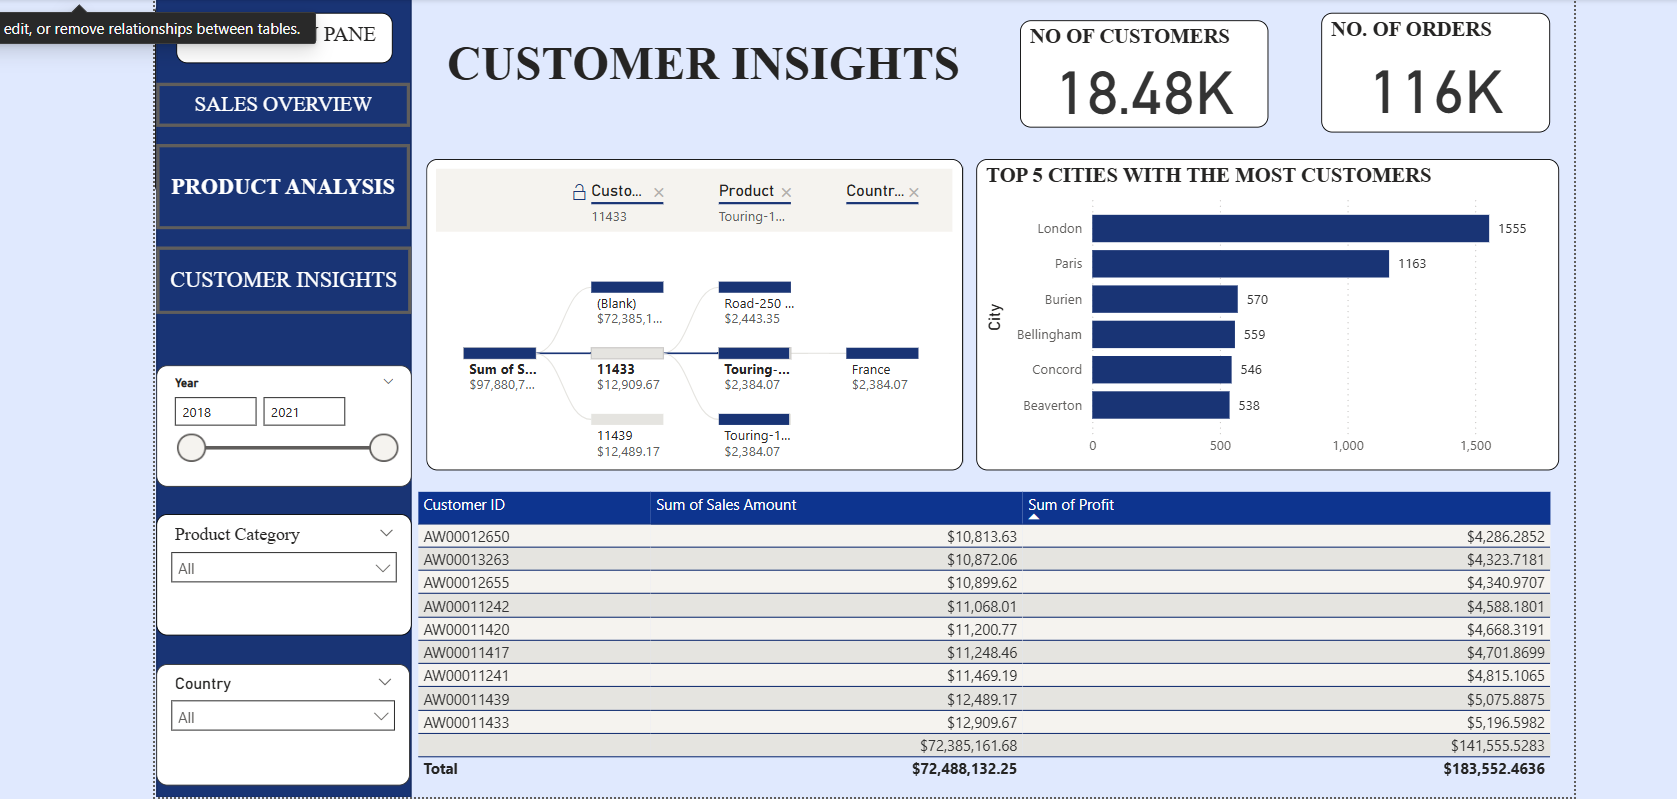

The page's visual inventory and layout, read from the dashboard file:
{"tool":"powerbi","page":{"name":"Customer Insights","canvas":[1280,720],"ordinal":3},"visuals":[{"type":"multiRowCard","fields":{"Values":["Sales.Total SalesAmount","Sales.Sales Target","Sales.Sales Variance"]},"box":[0,2.7,229.2,175.6],"z":0},{"type":"slicer","fields":{"Values":["Date.Date.Variation.Date Hierarchy.Year"]},"box":[1.2,330.7,230.5,109.8],"z":0,"group":"g2"},{"type":"group","id":"g1","title":"Group 2","box":[1.2,0,230.1,720.3],"z":1000},{"type":"slicer","title":"Catrg","fields":{"Values":["Product.Category"]},"box":[1.2,465.2,230.5,109.8],"z":1000,"group":"g2"},{"type":"decompositionTreeVisual","fields":{"Analyze":["Sum(Sales.Sales Amount)"],"ExplainBy":["Customer.CustomerKey","Product.Product","Geography.Country-Region"]},"box":[245.1,144.3,483.9,281.1],"z":2000},{"type":"slicer","fields":{"Values":["Geography.Country-Region"]},"box":[1.2,599.7,229.2,109.8],"z":2000,"group":"g2"},{"type":"shape","box":[1.2,0,230.1,720.3],"z":3000,"group":"g1"},{"type":"card","title":"NO OF CUSTOMERS","fields":{"Values":["Count(Customer.Customer ID)"]},"box":[780,18.7,223.9,97],"z":3000},{"type":"actionButton","box":[1.2,130.6,228.9,77.1],"z":3000,"group":"g2"},{"type":"actionButton","box":[1.2,223.9,230.1,61],"z":4000,"group":"g2"},{"type":"tableEx","fields":{"Values":["Customer.Customer ID","Sum(Sales.Sales Amount)","Sum(Sales.Profit)"]},"box":[231.5,439.1,1048.5,280.9],"z":4000},{"type":"actionButton","box":[1.2,75.9,228.9,39.8],"z":5000,"group":"g2"},{"type":"barChart","title":"TOP 5 CITIES WITH THE MOST CUSTOMERS","fields":{"Y":["CountNonNull(Sales.CustomerKey)"],"Category":["Geography.City"]},"box":[740.4,144.7,526,280.9],"z":5000},{"type":"card","title":"NO. OF ORDERS","fields":{"Values":["Count(Sales.SalesOrderLineKey)"]},"box":[1051.1,12.4,206.5,108.2],"z":6000},{"type":"group","id":"g2","title":"Group 1","box":[1.2,75.9,230.5,633.6],"z":6008,"group":"g1"},{"type":"textbox","box":[245.1,28.6,500.1,75.9],"z":7000},{"type":"textbox","box":[19.2,12.3,194.9,45.3],"z":8000}]}

Visuals, with their boxes on the page's 1280x720 design canvas (x1, y1, x2, y2). These are canvas units, not pixel positions in the 1677x799 screenshot, which may show the page scaled, cropped or inside an application window:
multiRowCard - Sales.Total SalesAmount x Sales.Sales Target: 0, 3, 229, 178
slicer - Date.Date.Variation.Date Hierarchy.Year: 1, 331, 232, 440
"Group 2" group: 1, 0, 231, 720
"Catrg" slicer: 1, 465, 232, 575
decompositionTreeVisual - Sum(Sales.Sales Amount) x Customer.CustomerKey: 245, 144, 729, 425
slicer - Geography.Country-Region: 1, 600, 230, 710
shape: 1, 0, 231, 720
"NO OF CUSTOMERS" card: 780, 19, 1004, 116
actionButton: 1, 131, 230, 208
actionButton: 1, 224, 231, 285
tableEx - Customer.Customer ID x Sum(Sales.Sales Amount): 232, 439, 1280, 720
actionButton: 1, 76, 230, 116
"TOP 5 CITIES WITH THE MOST CUSTOMERS" barChart: 740, 145, 1266, 426
"NO. OF ORDERS" card: 1051, 12, 1258, 121
"Group 1" group: 1, 76, 232, 710
textbox: 245, 29, 745, 104
textbox: 19, 12, 214, 58
